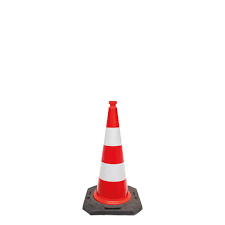cones: (81, 101, 145, 217)
